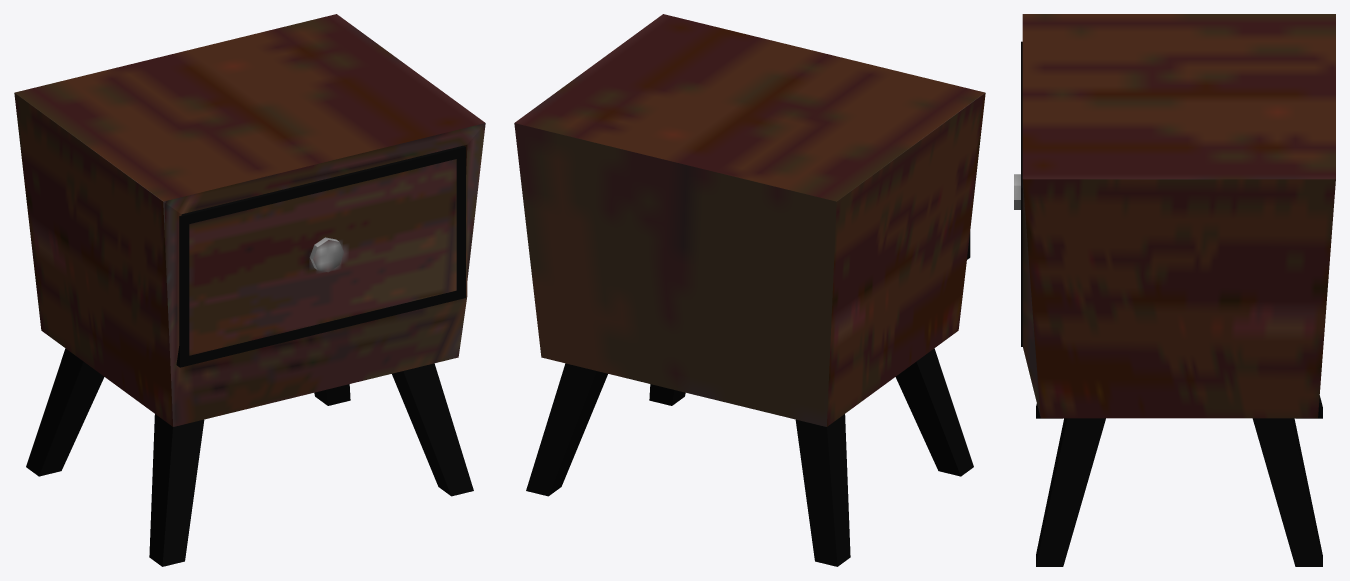
File: BedStand.fbx
3 views of the same model, side by side, from view 1: azimuth 30°, elevation 25°; view 2: azimuth 150°, elevation 25°; view 3: azimuth 270°, elevation 25° (orthographic). The views are drawn at different scales.
Visible parts, largest first — view 1: BedStand, BedStandDrawer; view 2: BedStand; view 3: BedStand, BedStandDrawer.
Part boxes in pixels (x1,y1,x2,y2): BedStand: (14,14,485,566); BedStandDrawer: (176,145,465,367); BedStand: (514,14,985,566); BedStand: (1022,14,1335,566); BedStandDrawer: (1014,41,1022,346).
Size of the model in its own units: 50 by 55 by 41.12.
